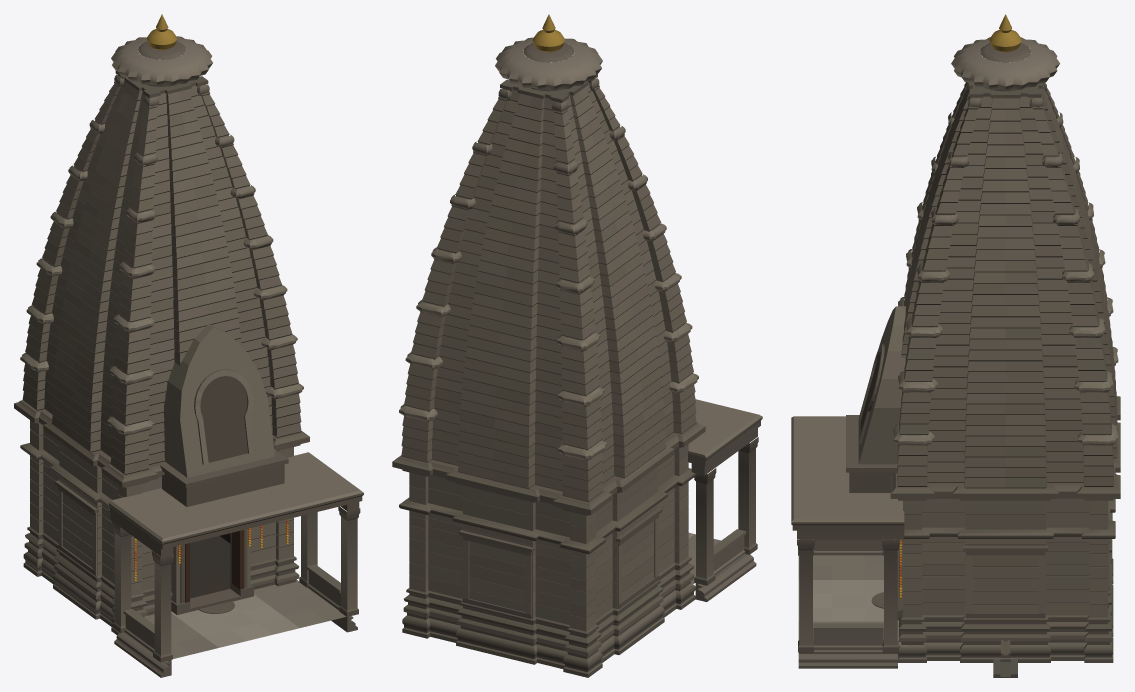
The model's file is shrine.glb.
3 views of the same model, side by side, from view 1: azimuth 30°, elevation 25°; view 2: azimuth 150°, elevation 25°; view 3: azimuth 270°, elevation 25° (orthographic). The views are drawn at different scales.
Visible parts, largest first — view 1: shrine; view 2: shrine; view 3: shrine.
Boxes of the visible parts, left/top/right/bottom form: shrine: left=14, top=14, right=363, bottom=677; shrine: left=392, top=14, right=762, bottom=677; shrine: left=791, top=14, right=1120, bottom=677.
Size of the model in its own units: 6.44 by 16.1 by 7.96.
